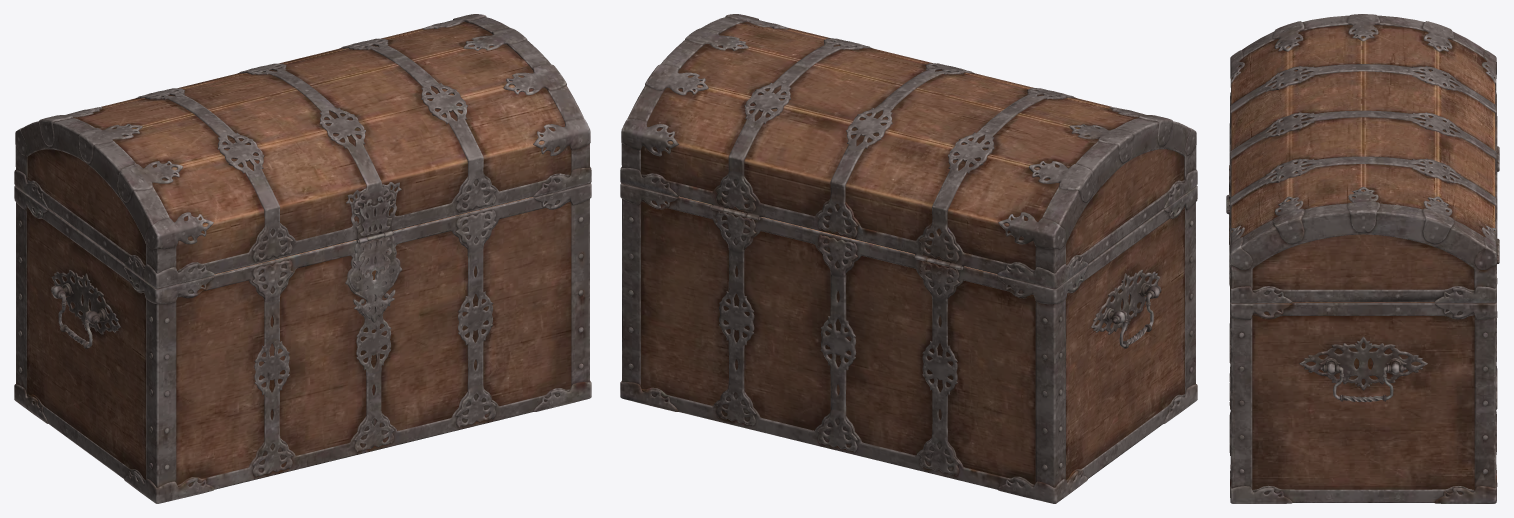
The model's file is treasure_chest.glb.
The picture shows the model from 3 angles, left to right: view 1: azimuth 30°, elevation 25°; view 2: azimuth 150°, elevation 25°; view 3: azimuth 270°, elevation 25°; orthographic projection. The views are drawn at different scales.
Parts seen in each view (by area): view 1: treasure_chest_bottom; view 2: treasure_chest_bottom; view 3: treasure_chest_bottom.
Boxes of the visible parts, x1=… form: treasure_chest_bottom: x1=14, y1=14, x2=591, y2=503; treasure_chest_bottom: x1=620, y1=14, x2=1197, y2=503; treasure_chest_bottom: x1=1226, y1=14, x2=1499, y2=503.
Bounding box in the file's own units: 0.959 × 0.619 × 0.5229.
1 material, 1 textured.
